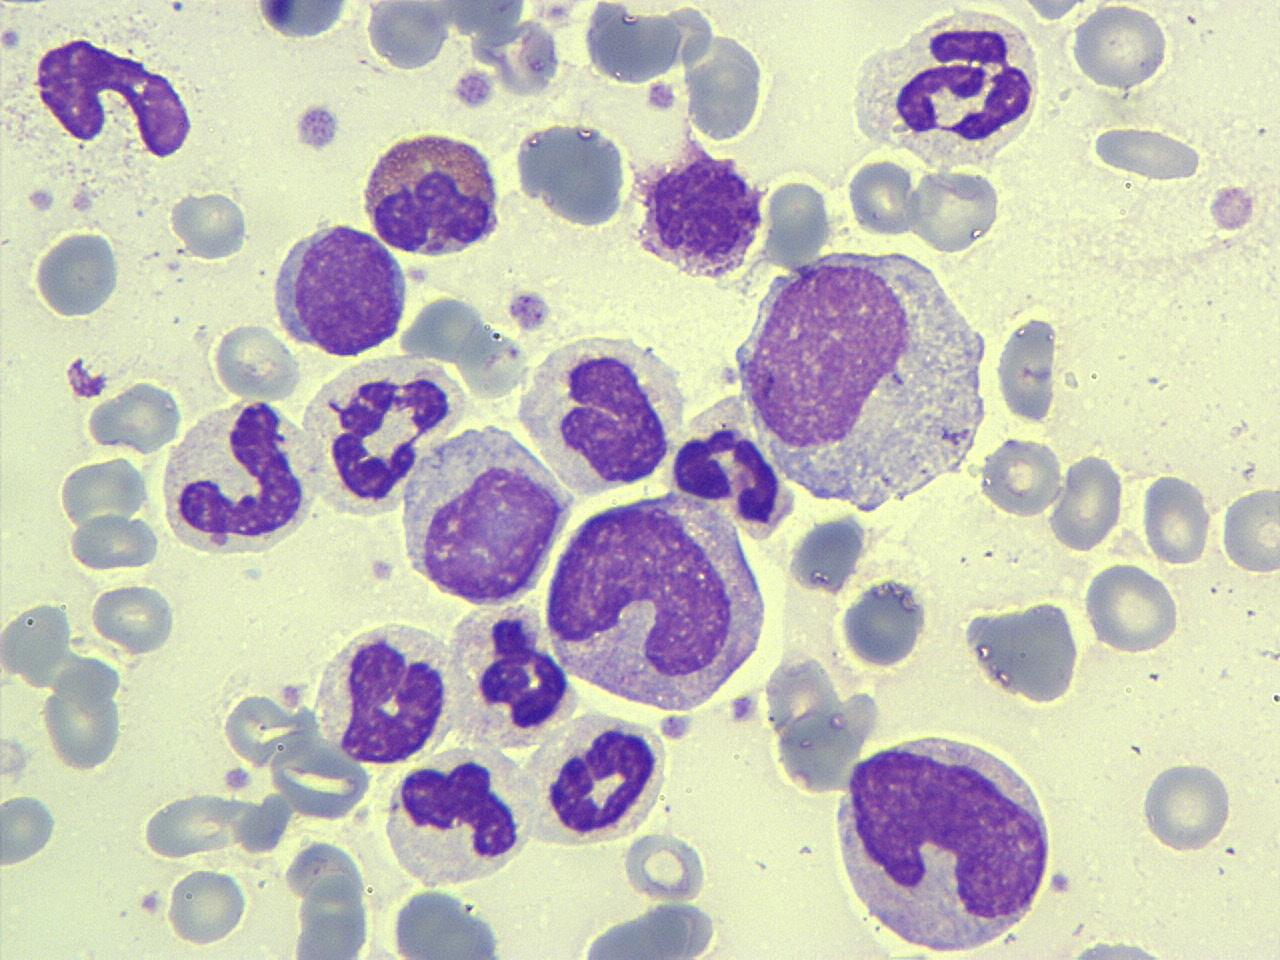Platelets: (254, 0, 354, 43), (292, 99, 343, 153), (502, 287, 553, 334), (451, 66, 497, 113), (255, 1, 302, 25), (221, 766, 254, 792), (27, 187, 57, 214), (138, 888, 165, 916), (1, 26, 23, 53)
RBC: (449, 614, 578, 752), (991, 598, 1083, 706), (684, 29, 768, 146), (1080, 560, 1180, 658), (1069, 3, 1171, 93), (1139, 758, 1233, 855), (836, 574, 930, 670), (906, 165, 1003, 256), (266, 740, 373, 822), (31, 226, 122, 320), (141, 792, 261, 863), (1048, 450, 1128, 553), (41, 675, 123, 773), (994, 312, 1062, 426), (86, 380, 186, 454), (978, 434, 1063, 520), (56, 452, 149, 530), (220, 691, 313, 769), (212, 320, 300, 402), (165, 864, 248, 950), (1140, 470, 1214, 566), (1087, 123, 1205, 183), (844, 153, 920, 240), (90, 580, 177, 654), (363, 3, 452, 71), (171, 189, 249, 262), (2, 598, 71, 680), (65, 513, 160, 572), (1220, 484, 1280, 575), (0, 792, 58, 869), (1012, 0, 1096, 24)
WBC: (730, 239, 996, 518), (828, 720, 1060, 958), (540, 490, 774, 717), (846, 4, 1044, 176), (398, 416, 570, 610), (516, 330, 683, 498), (297, 349, 461, 518), (156, 395, 314, 561), (310, 616, 456, 770), (380, 747, 530, 892), (625, 140, 775, 282), (268, 217, 412, 361), (358, 125, 506, 264), (529, 711, 670, 848), (448, 601, 576, 749), (511, 117, 634, 230), (992, 596, 1084, 706), (684, 30, 770, 146), (567, 900, 730, 960), (387, 884, 513, 958), (836, 572, 931, 669), (363, 2, 453, 70), (251, 0, 360, 42)
